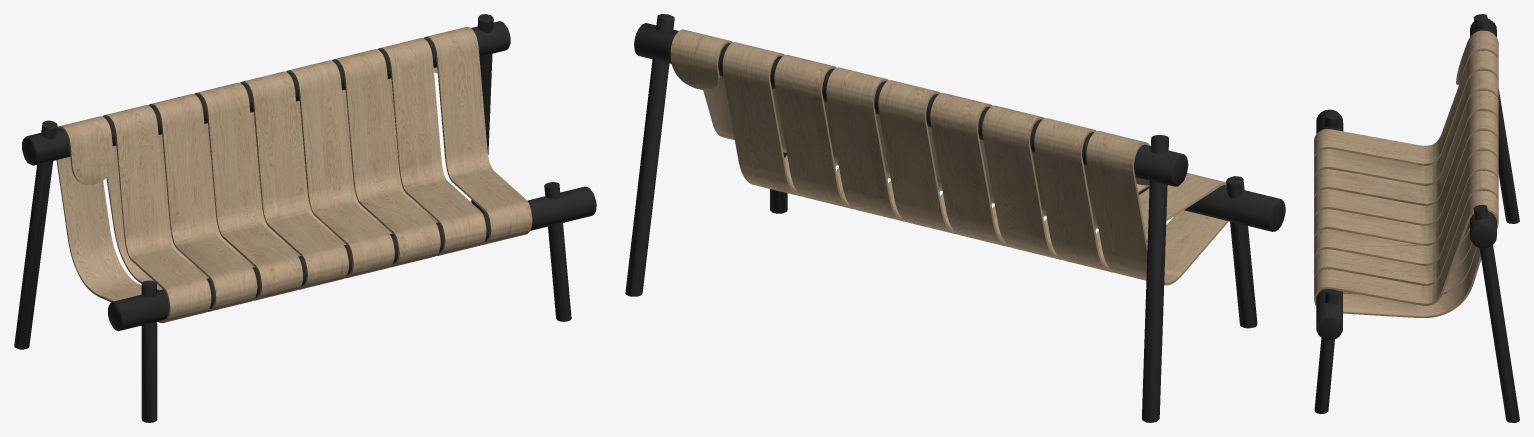
The model's file is bench2.glb.
3 renders of one model, left to right at view 1: azimuth 30°, elevation 25°; view 2: azimuth 150°, elevation 25°; view 3: azimuth 270°, elevation 25°, orthographic. The views are drawn at different scales.
Visible parts, largest first — view 1: Serpentine_Sofa_by_Nola_Industrier; view 2: Serpentine_Sofa_by_Nola_Industrier; view 3: Serpentine_Sofa_by_Nola_Industrier.
Part boxes in pixels (box(x1,y1,x2,y2)): Serpentine_Sofa_by_Nola_Industrier: box(14, 14, 596, 422); Serpentine_Sofa_by_Nola_Industrier: box(625, 14, 1285, 422); Serpentine_Sofa_by_Nola_Industrier: box(1314, 14, 1519, 422).
Size of the model in its own units: 1.72 by 0.8089 by 0.7209.
2 materials, 1 textured.
